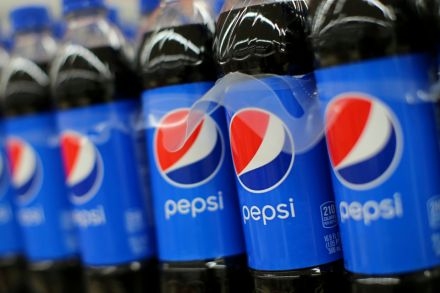pepsi: (321, 90, 403, 188), (321, 90, 396, 188), (226, 105, 297, 192), (151, 106, 225, 188), (226, 105, 294, 192), (151, 106, 226, 183), (54, 128, 103, 202), (2, 135, 43, 204)
